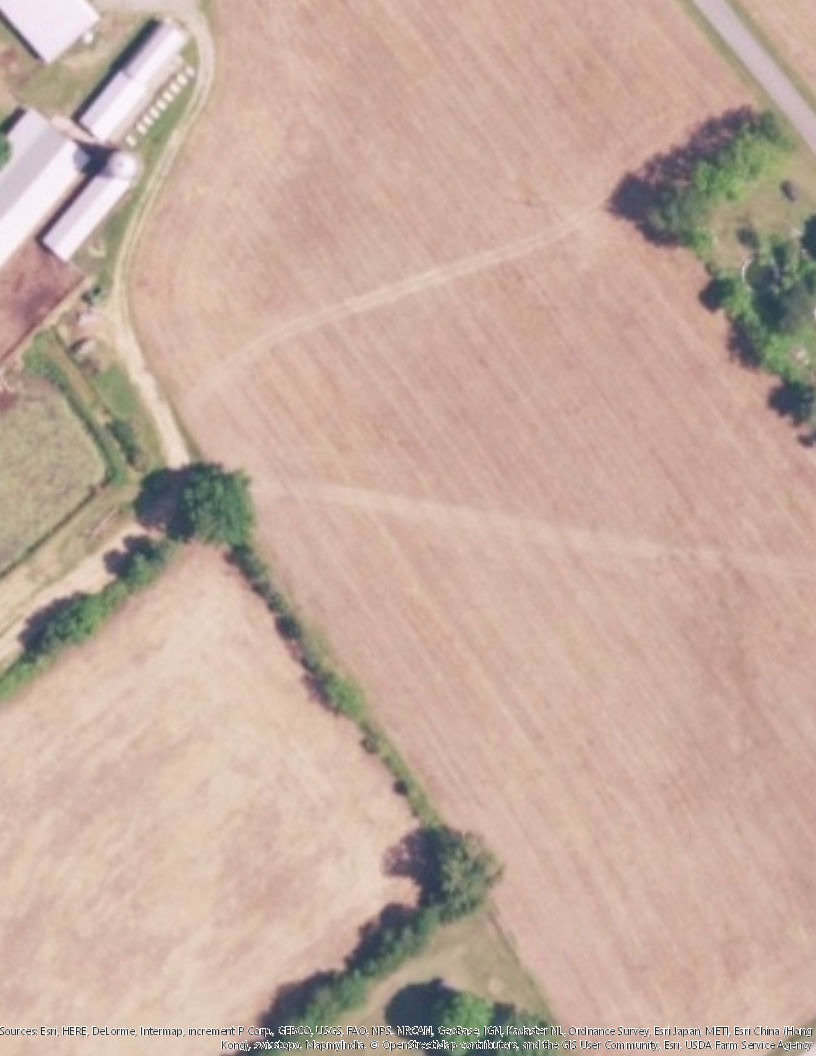cafo: (1, 15, 203, 286), (1, 1, 109, 69)
